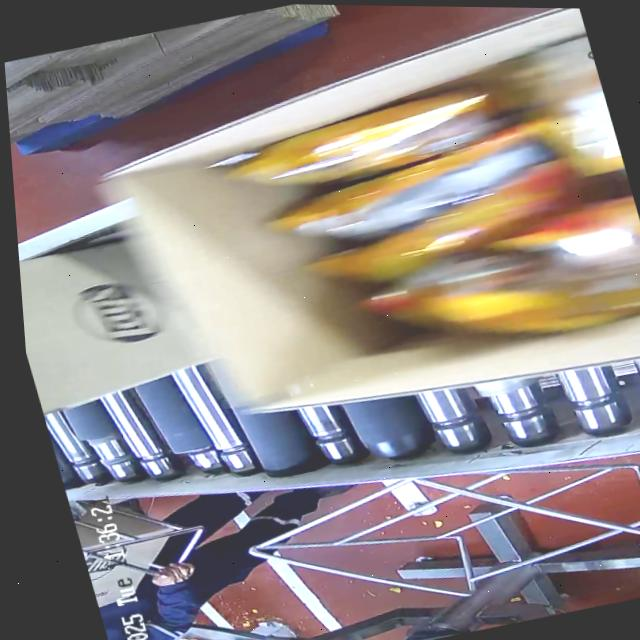FRENCH_CHEESE: (216, 41, 640, 380)
